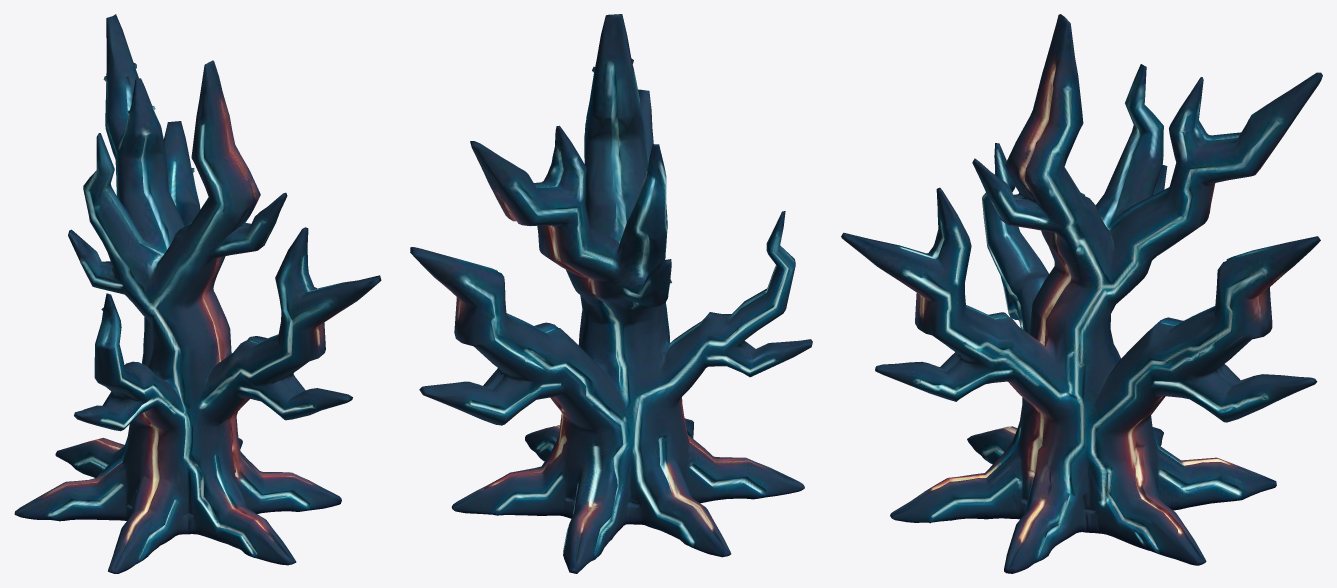
File: sp_storm.glb
3 views of the same model, side by side, from view 1: azimuth 30°, elevation 25°; view 2: azimuth 150°, elevation 25°; view 3: azimuth 270°, elevation 25° (orthographic). The views are drawn at different scales.
Visible parts, largest first — view 1: tripo_node_12b9d888-5dd4-4657-b981-d4134b0df221; view 2: tripo_node_12b9d888-5dd4-4657-b981-d4134b0df221; view 3: tripo_node_12b9d888-5dd4-4657-b981-d4134b0df221.
Part boxes in pixels (x1=…): tripo_node_12b9d888-5dd4-4657-b981-d4134b0df221: x1=14, y1=14, x2=381, y2=573; tripo_node_12b9d888-5dd4-4657-b981-d4134b0df221: x1=410, y1=14, x2=812, y2=573; tripo_node_12b9d888-5dd4-4657-b981-d4134b0df221: x1=841, y1=14, x2=1322, y2=573.
Bounding box in the file's own units: 0.6119 × 0.9794 × 0.8536.
1 material, 1 textured.
